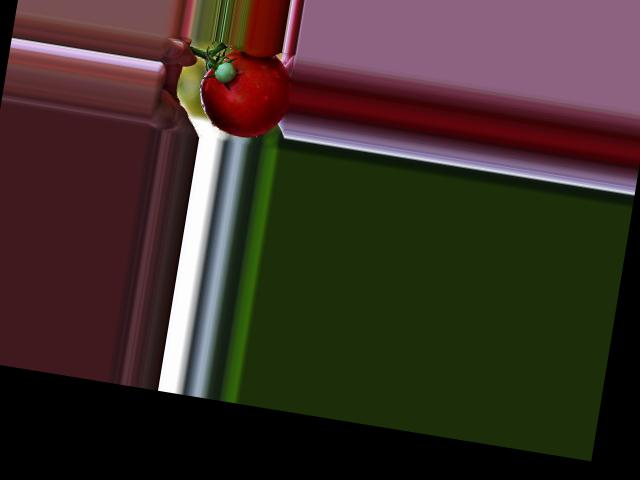tomato: (193, 45, 296, 143)
